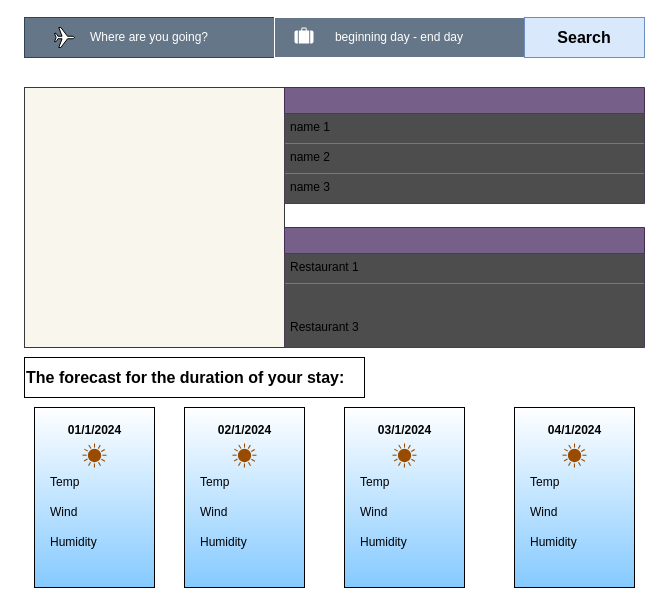
Some shapes in this 662 by 605 pixel diagram are drawn without their labels. Here are the shapes that lost their labels. From the top down, the box of each, then its label:
(284, 86, 644, 204): Top places to visit during your stay!
(24, 86, 284, 348): Img of location
(284, 226, 644, 348): Top places for food!
(284, 283, 644, 347): Restaurant 2
